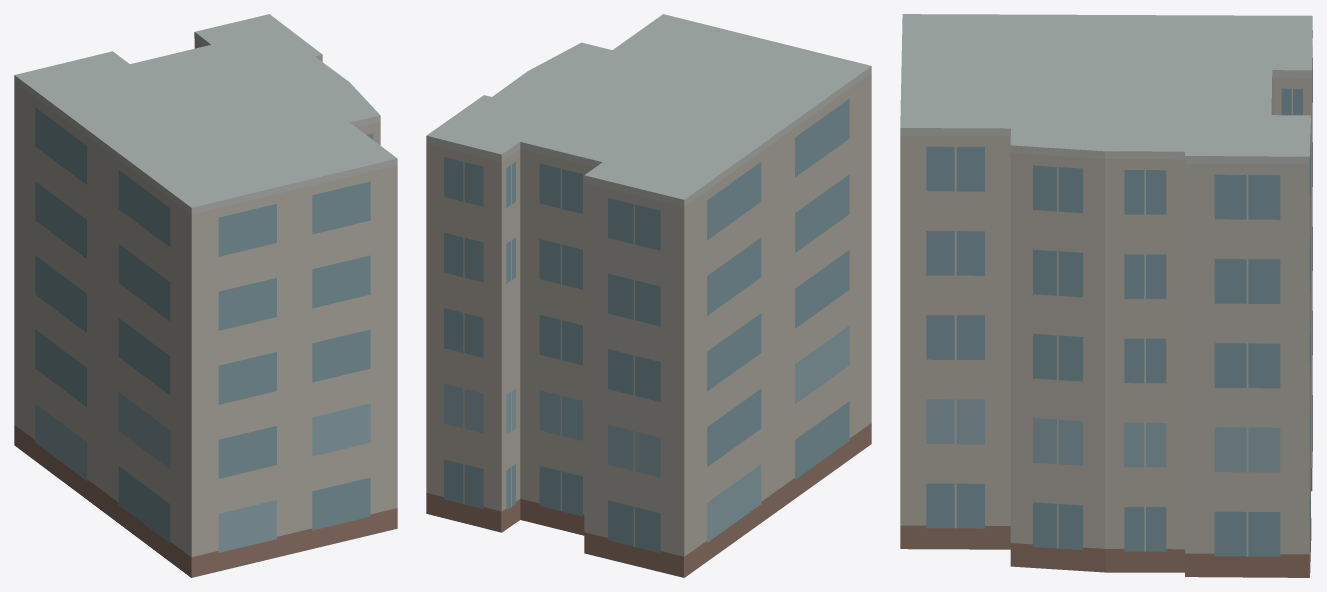
The model's file is survey-upis-32700869.glb.
3 views of the same model, side by side, from view 1: azimuth 30°, elevation 25°; view 2: azimuth 150°, elevation 25°; view 3: azimuth 270°, elevation 25° (orthographic). The views are drawn at different scales.
Visible parts, largest first — view 1: survey-upis-32700869.tmp; view 2: survey-upis-32700869.tmp; view 3: survey-upis-32700869.tmp.
Part boxes in pixels (x1,y1,x2,y2): survey-upis-32700869.tmp: (14, 14, 397, 577); survey-upis-32700869.tmp: (426, 14, 871, 577); survey-upis-32700869.tmp: (900, 14, 1312, 577).
Bounding box in the file's own units: 9.79 × 13.45 × 11.95.
